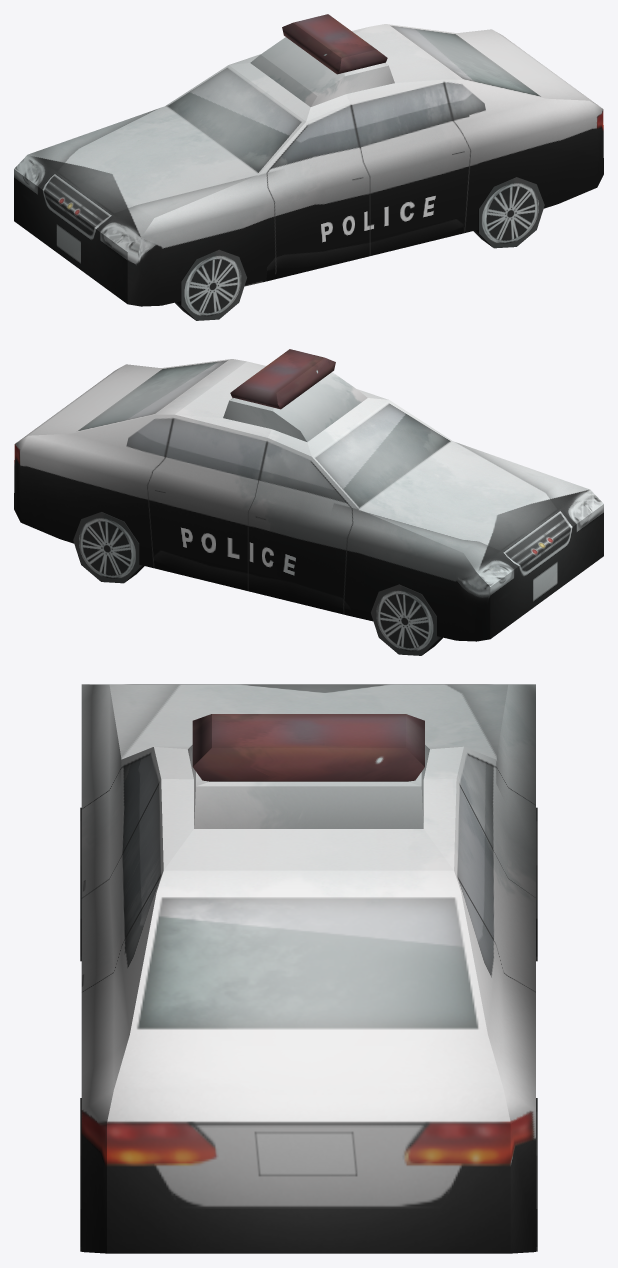
Rendered from BgMD_PoliceCar_0101.fbx.
The picture shows the model from 3 angles, top to bottom: view 1: azimuth 30°, elevation 25°; view 2: azimuth 150°, elevation 25°; view 3: azimuth 270°, elevation 25°; orthographic projection. The views are drawn at different scales.
Parts seen in each view (by area): view 1: pCylinder8; view 2: pCylinder8; view 3: pCylinder8.
Boxes of the visible parts, box(x1,y1,x2,y2) form: pCylinder8: box(14, 14, 603, 320); pCylinder8: box(14, 349, 603, 655); pCylinder8: box(80, 684, 537, 1253).
Bounding box in the file's own units: 448 × 177 × 184.
1 material, 1 textured.
